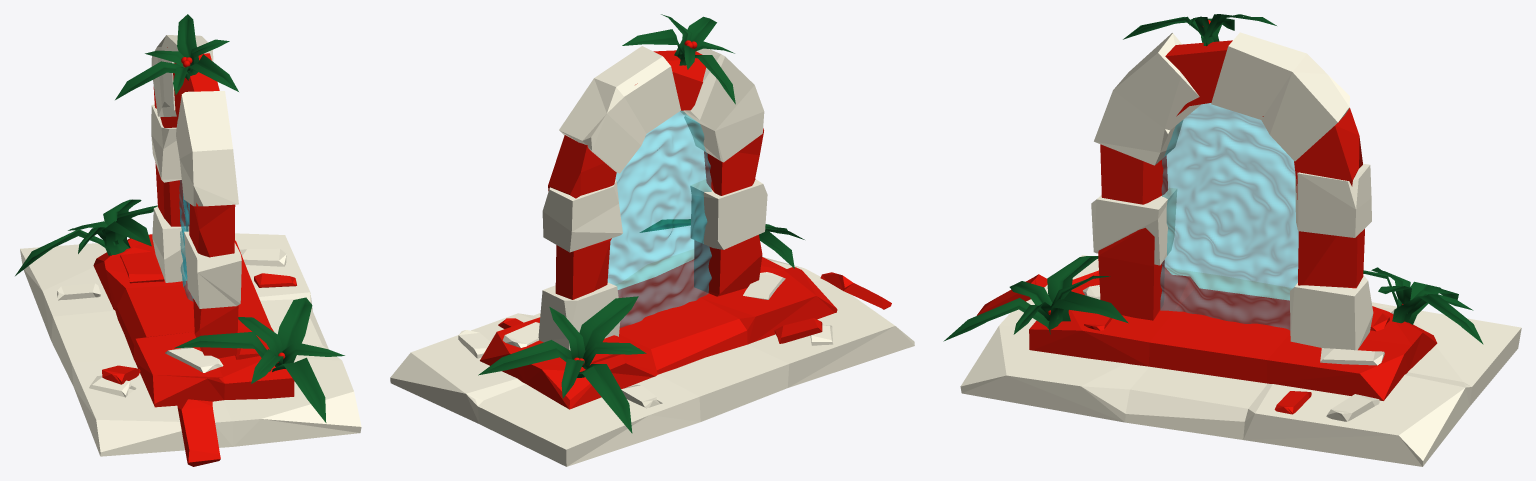
Rendered from Portal.glb.
3 renders of one model, left to right at view 1: azimuth 30°, elevation 25°; view 2: azimuth 150°, elevation 25°; view 3: azimuth 270°, elevation 25°, orthographic. The views are drawn at different scales.
Parts seen in each view (by area): view 1: Portal_0; view 2: Portal_0; view 3: Portal_0.
Boxes of the visible parts, x1=… form: Portal_0: x1=15, y1=14, x2=361, y2=466; Portal_0: x1=390, y1=14, x2=914, y2=466; Portal_0: x1=943, y1=14, x2=1521, y2=466.
Size of the model in its own units: 5.78 by 5.2 by 7.55.
